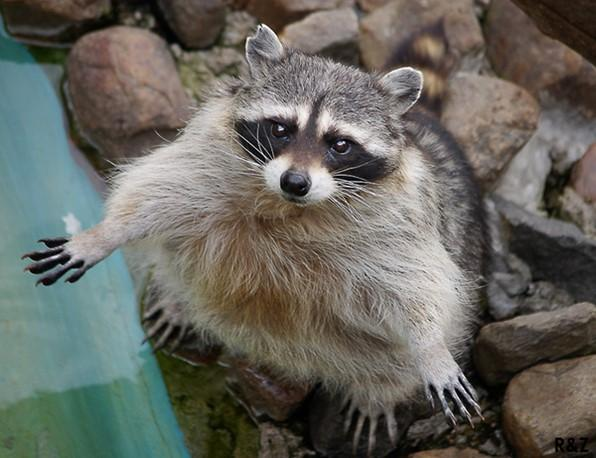raccoon: (19, 21, 486, 458)
